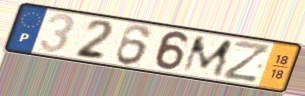2: (74, 19, 116, 62)
3: (38, 13, 79, 56)
6: (114, 22, 153, 68), (153, 29, 191, 73)
M: (179, 35, 236, 79)
Z: (220, 39, 273, 84)
